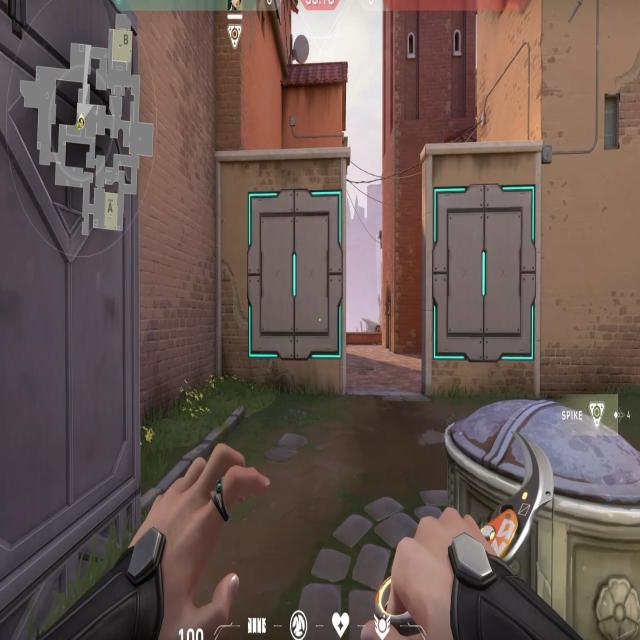Mid_Wall: (420, 156, 559, 394), (231, 146, 359, 397)
